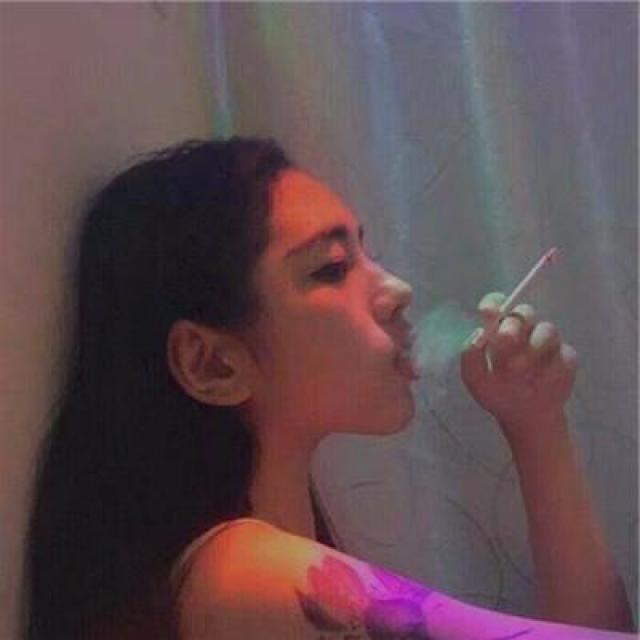smoking: (465, 244, 567, 355)
